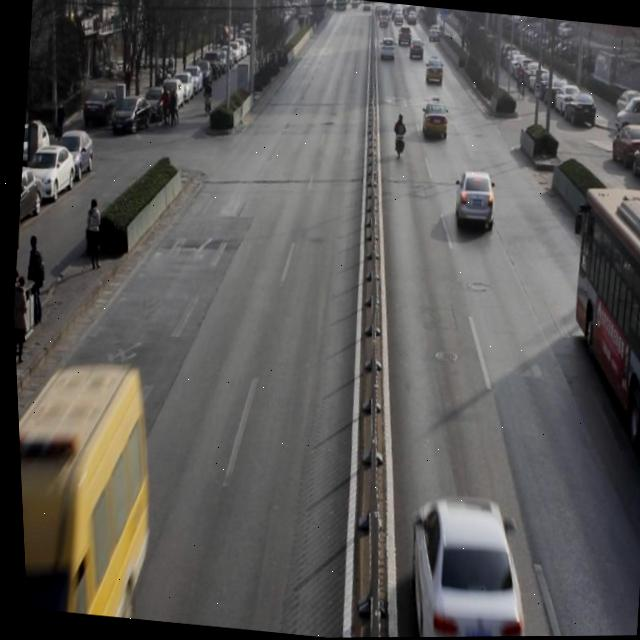car: (393, 488, 532, 638), (449, 163, 499, 239), (418, 99, 451, 149), (422, 56, 446, 89), (377, 36, 397, 65), (407, 36, 424, 66)
truck: (12, 348, 162, 620)
van: (550, 182, 640, 461)
